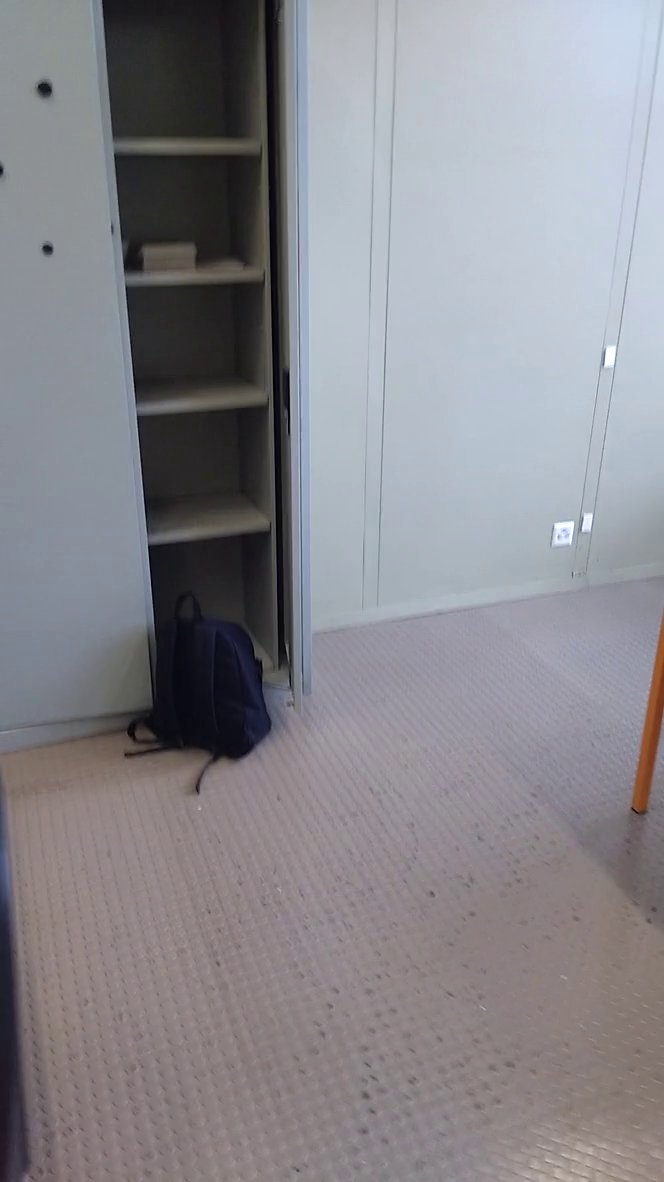bag: (120, 584, 283, 773)
